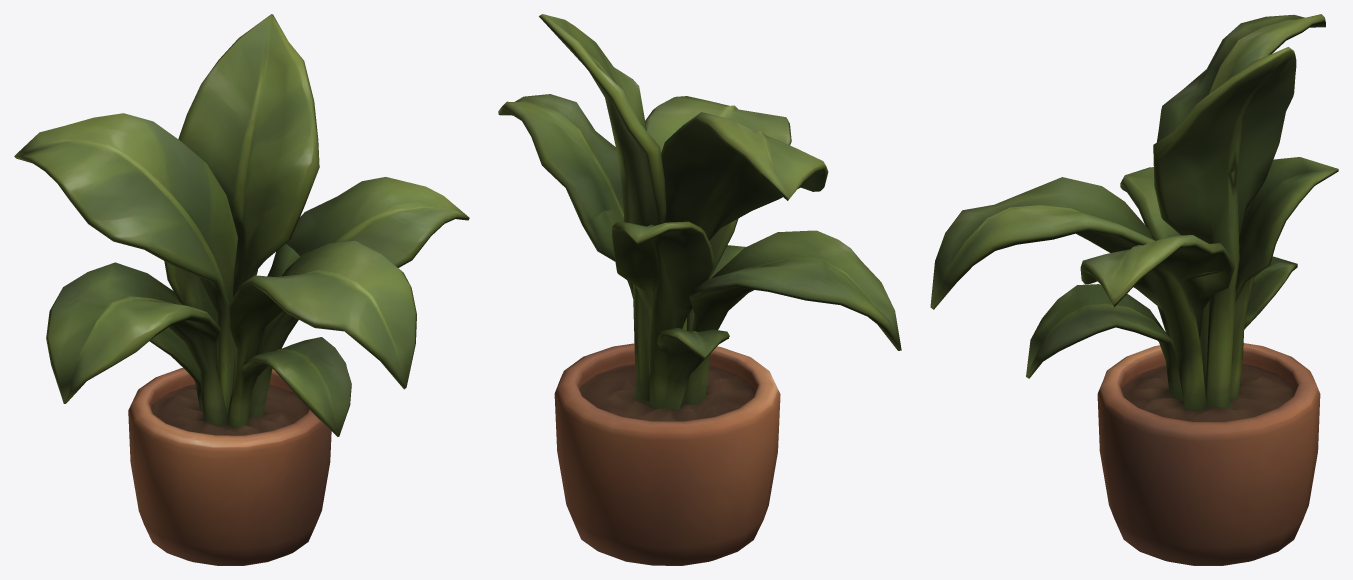
The model's file is plant.glb.
3 renders of one model, left to right at view 1: azimuth 30°, elevation 25°; view 2: azimuth 150°, elevation 25°; view 3: azimuth 270°, elevation 25°, orthographic. The views are drawn at different scales.
Visible parts, largest first — view 1: tripo_node_9c73bc42-e530-4375-89c1-8e0fcde04046; view 2: tripo_node_9c73bc42-e530-4375-89c1-8e0fcde04046; view 3: tripo_node_9c73bc42-e530-4375-89c1-8e0fcde04046.
Boxes of the visible parts, x1,y1,x2,y2 form: tripo_node_9c73bc42-e530-4375-89c1-8e0fcde04046: (14,14,469,565); tripo_node_9c73bc42-e530-4375-89c1-8e0fcde04046: (498,14,901,565); tripo_node_9c73bc42-e530-4375-89c1-8e0fcde04046: (930,14,1338,565).
Bounding box in the file's own units: 0.8457 × 0.998 × 0.7012.
1 material, 1 textured.
